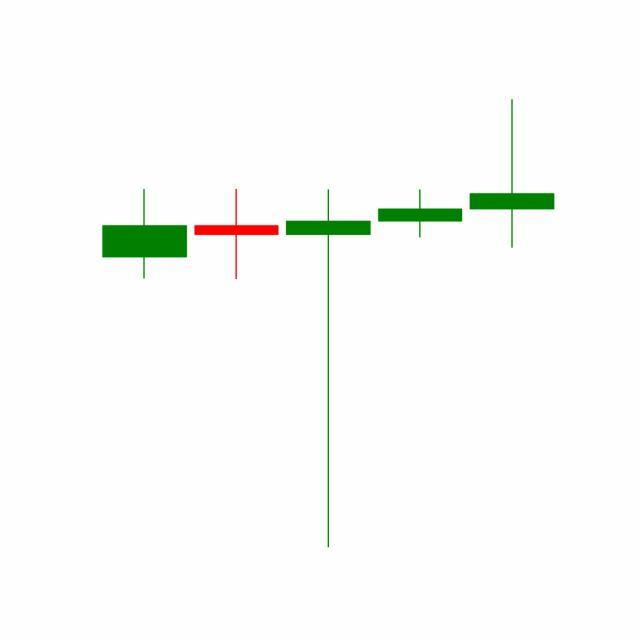Marubozu: (374, 189, 468, 239)
